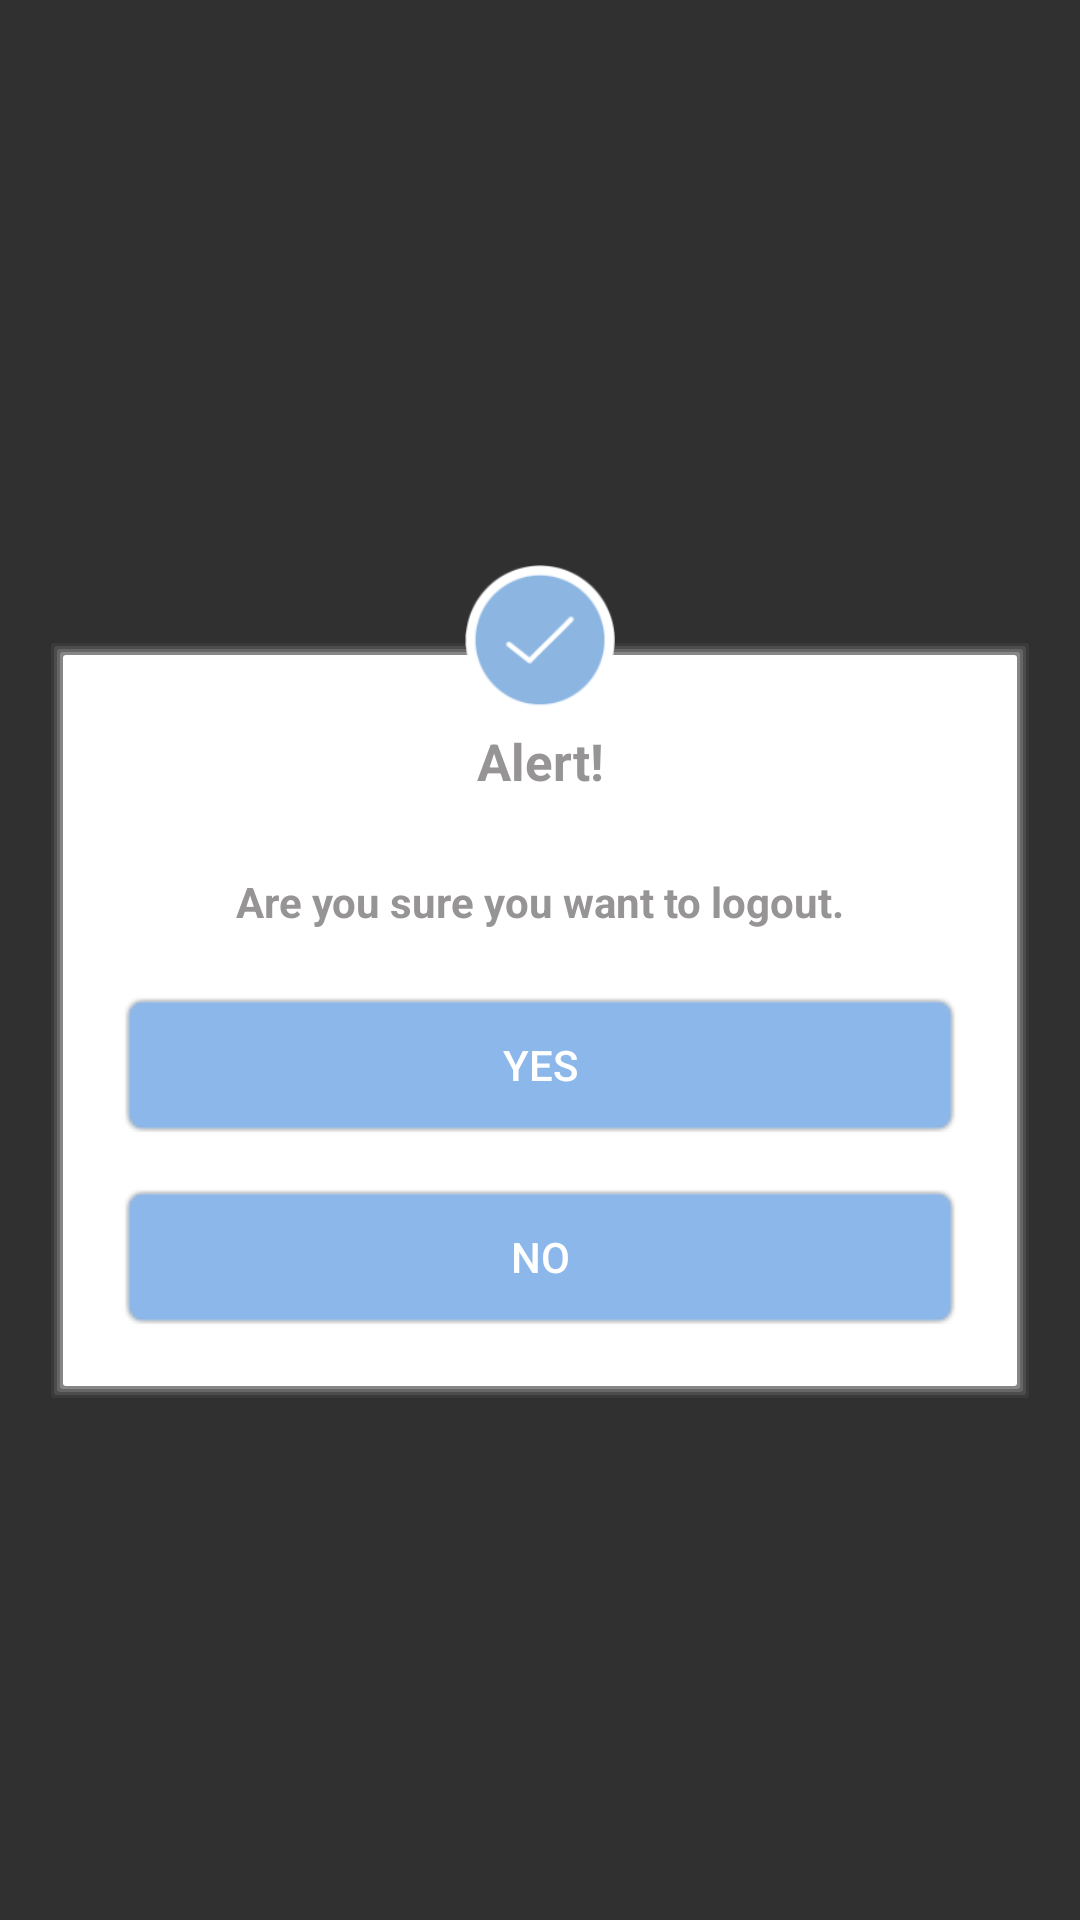

Icon click points for this 1080 x 1920 phone screenshot, format point (x, y):
right circle: point (540, 640)
